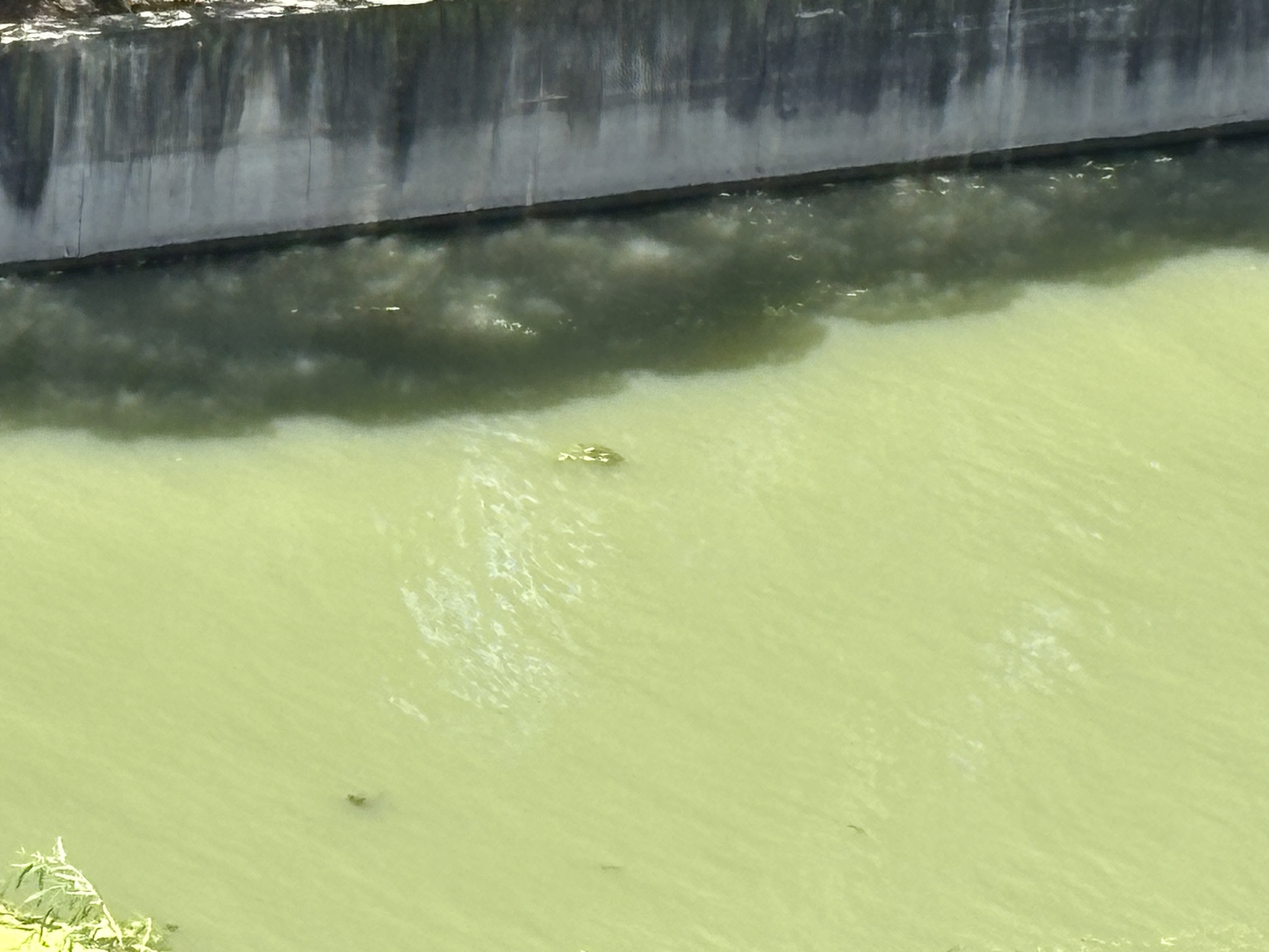Other: (566, 438, 620, 465), (347, 791, 369, 808), (849, 823, 872, 837), (600, 863, 621, 872)
